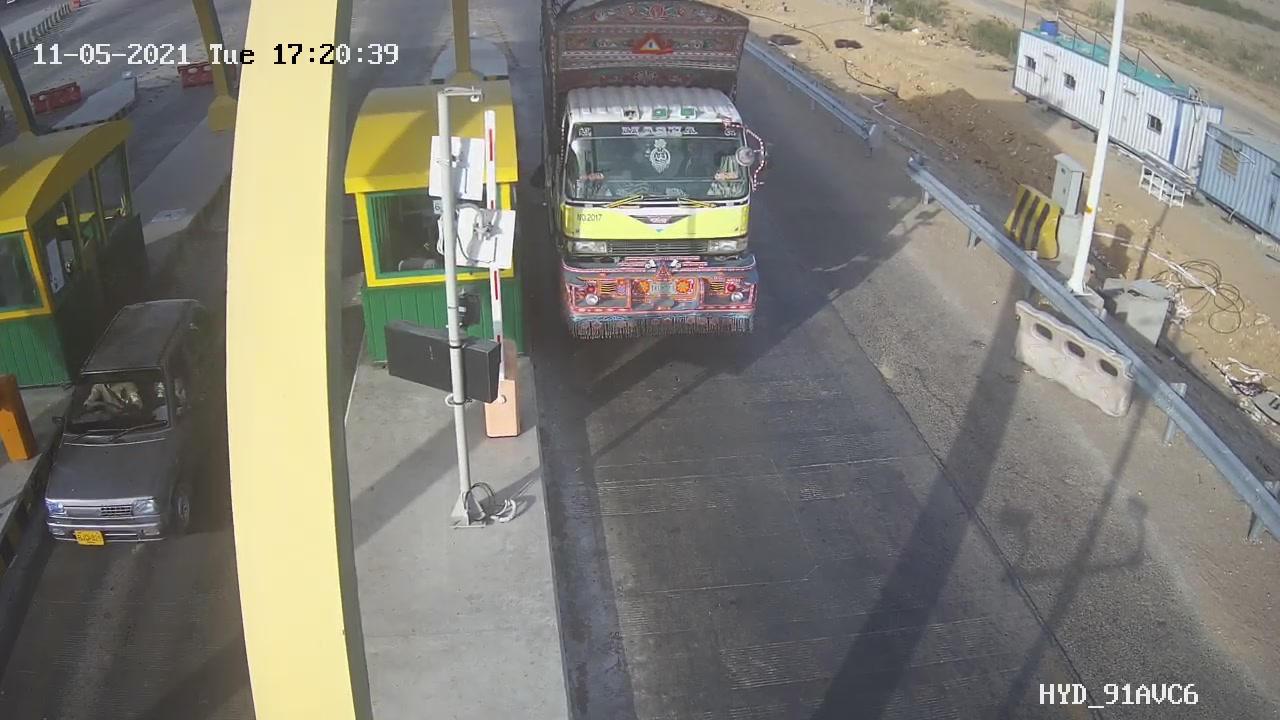F6: (524, 3, 798, 361)
